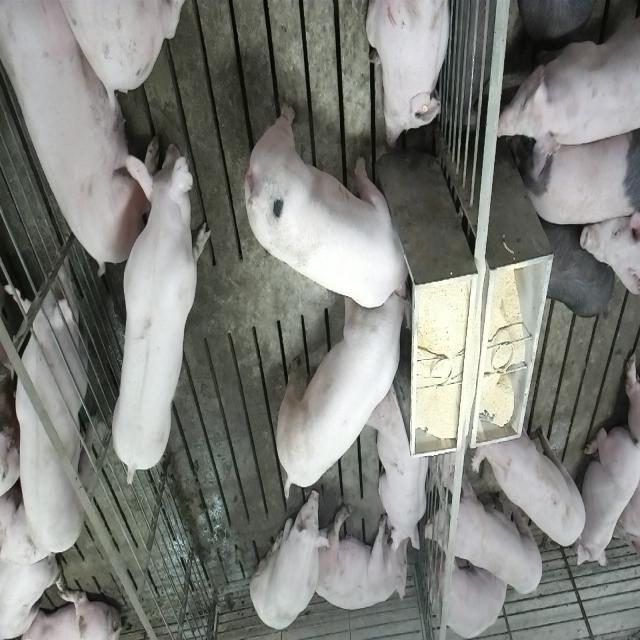Feeding: (248, 100, 420, 309), (274, 278, 409, 502)
Lateral_lying: (3, 3, 159, 279), (314, 504, 410, 610)
Sitting: (250, 485, 330, 632)
Standing: (106, 134, 208, 488), (0, 237, 92, 564), (496, 0, 638, 174), (472, 404, 588, 548), (424, 471, 544, 596), (518, 120, 637, 228), (540, 218, 614, 320)
Sternal_lying: (368, 0, 454, 149), (370, 380, 432, 554), (578, 418, 638, 568)
